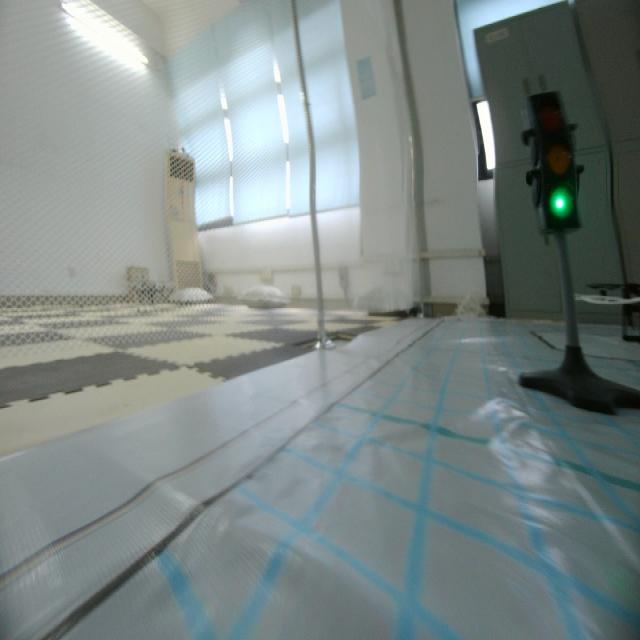green: (516, 86, 580, 232)
